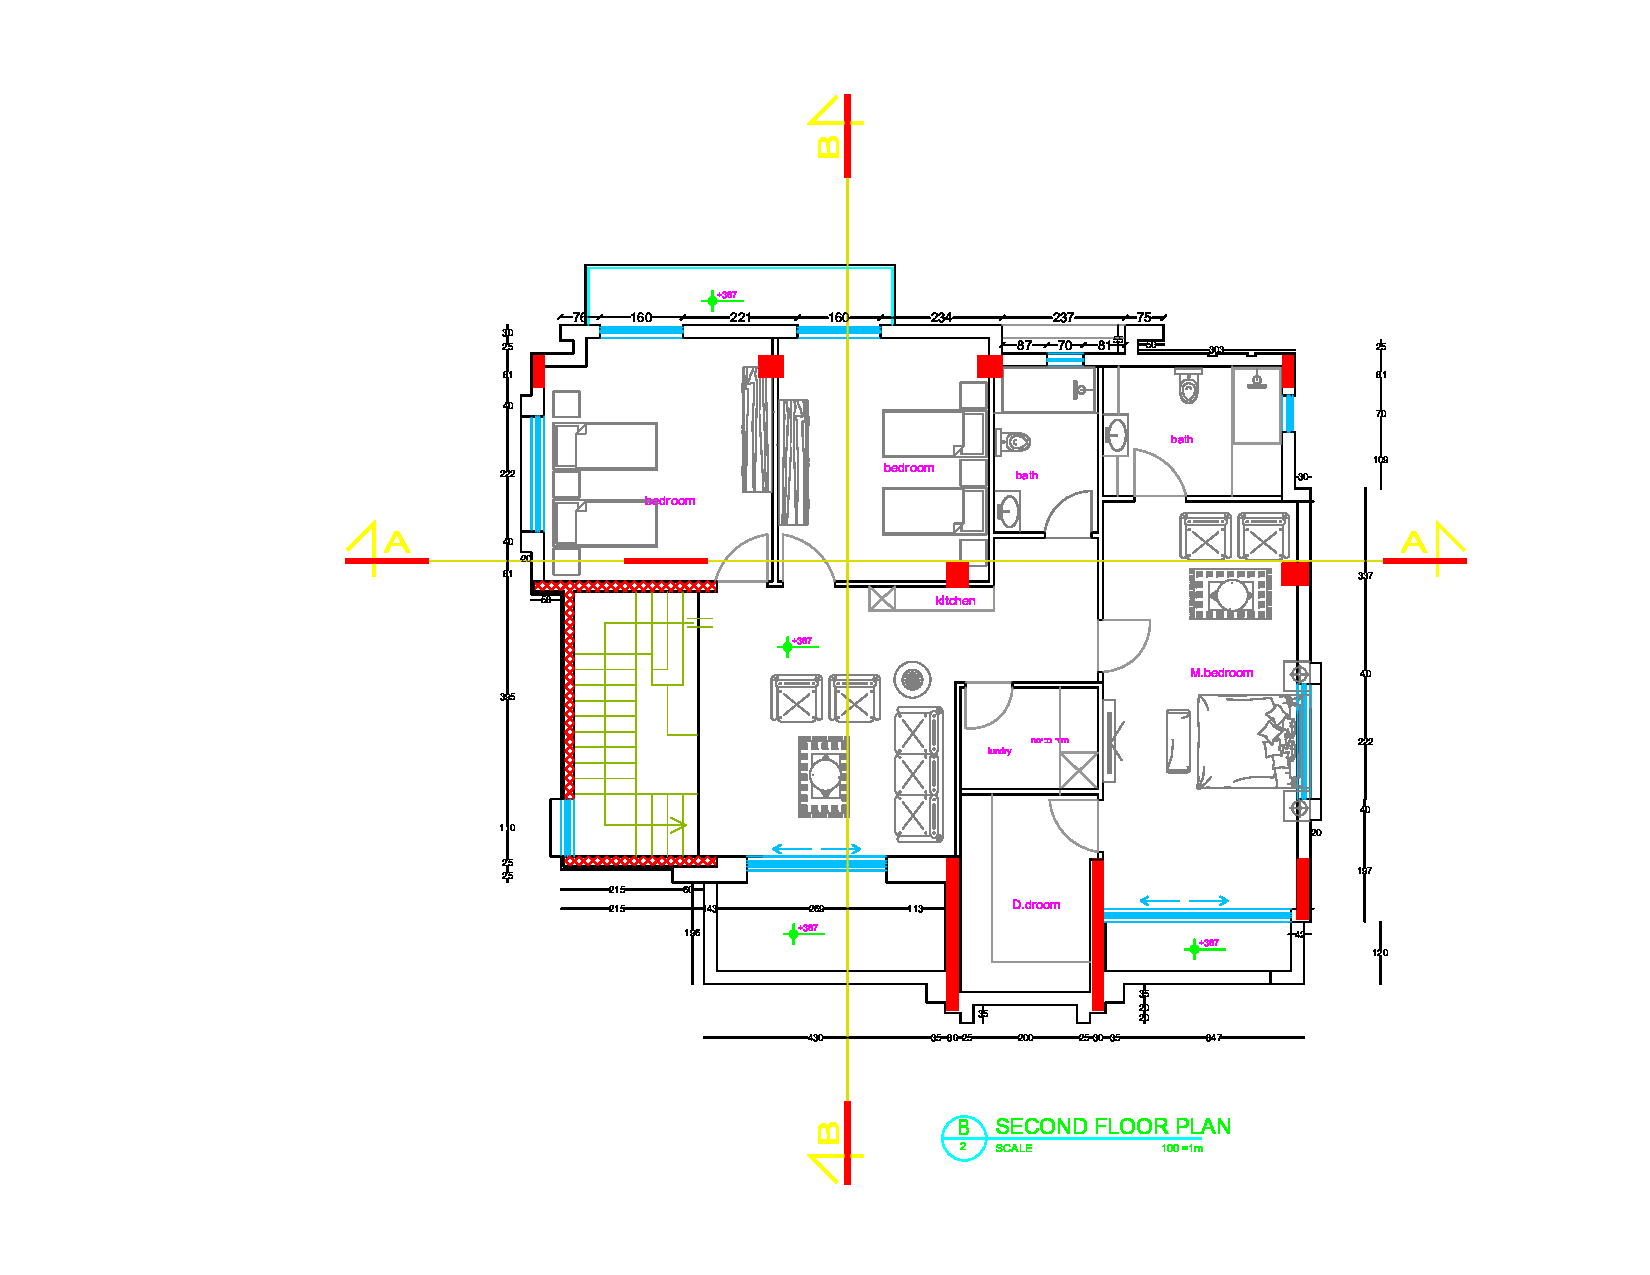door: (1104, 613, 1162, 672), (1037, 796, 1092, 858), (1129, 447, 1195, 492), (714, 529, 769, 576), (781, 528, 836, 575), (1039, 483, 1094, 529), (962, 691, 1017, 733)
